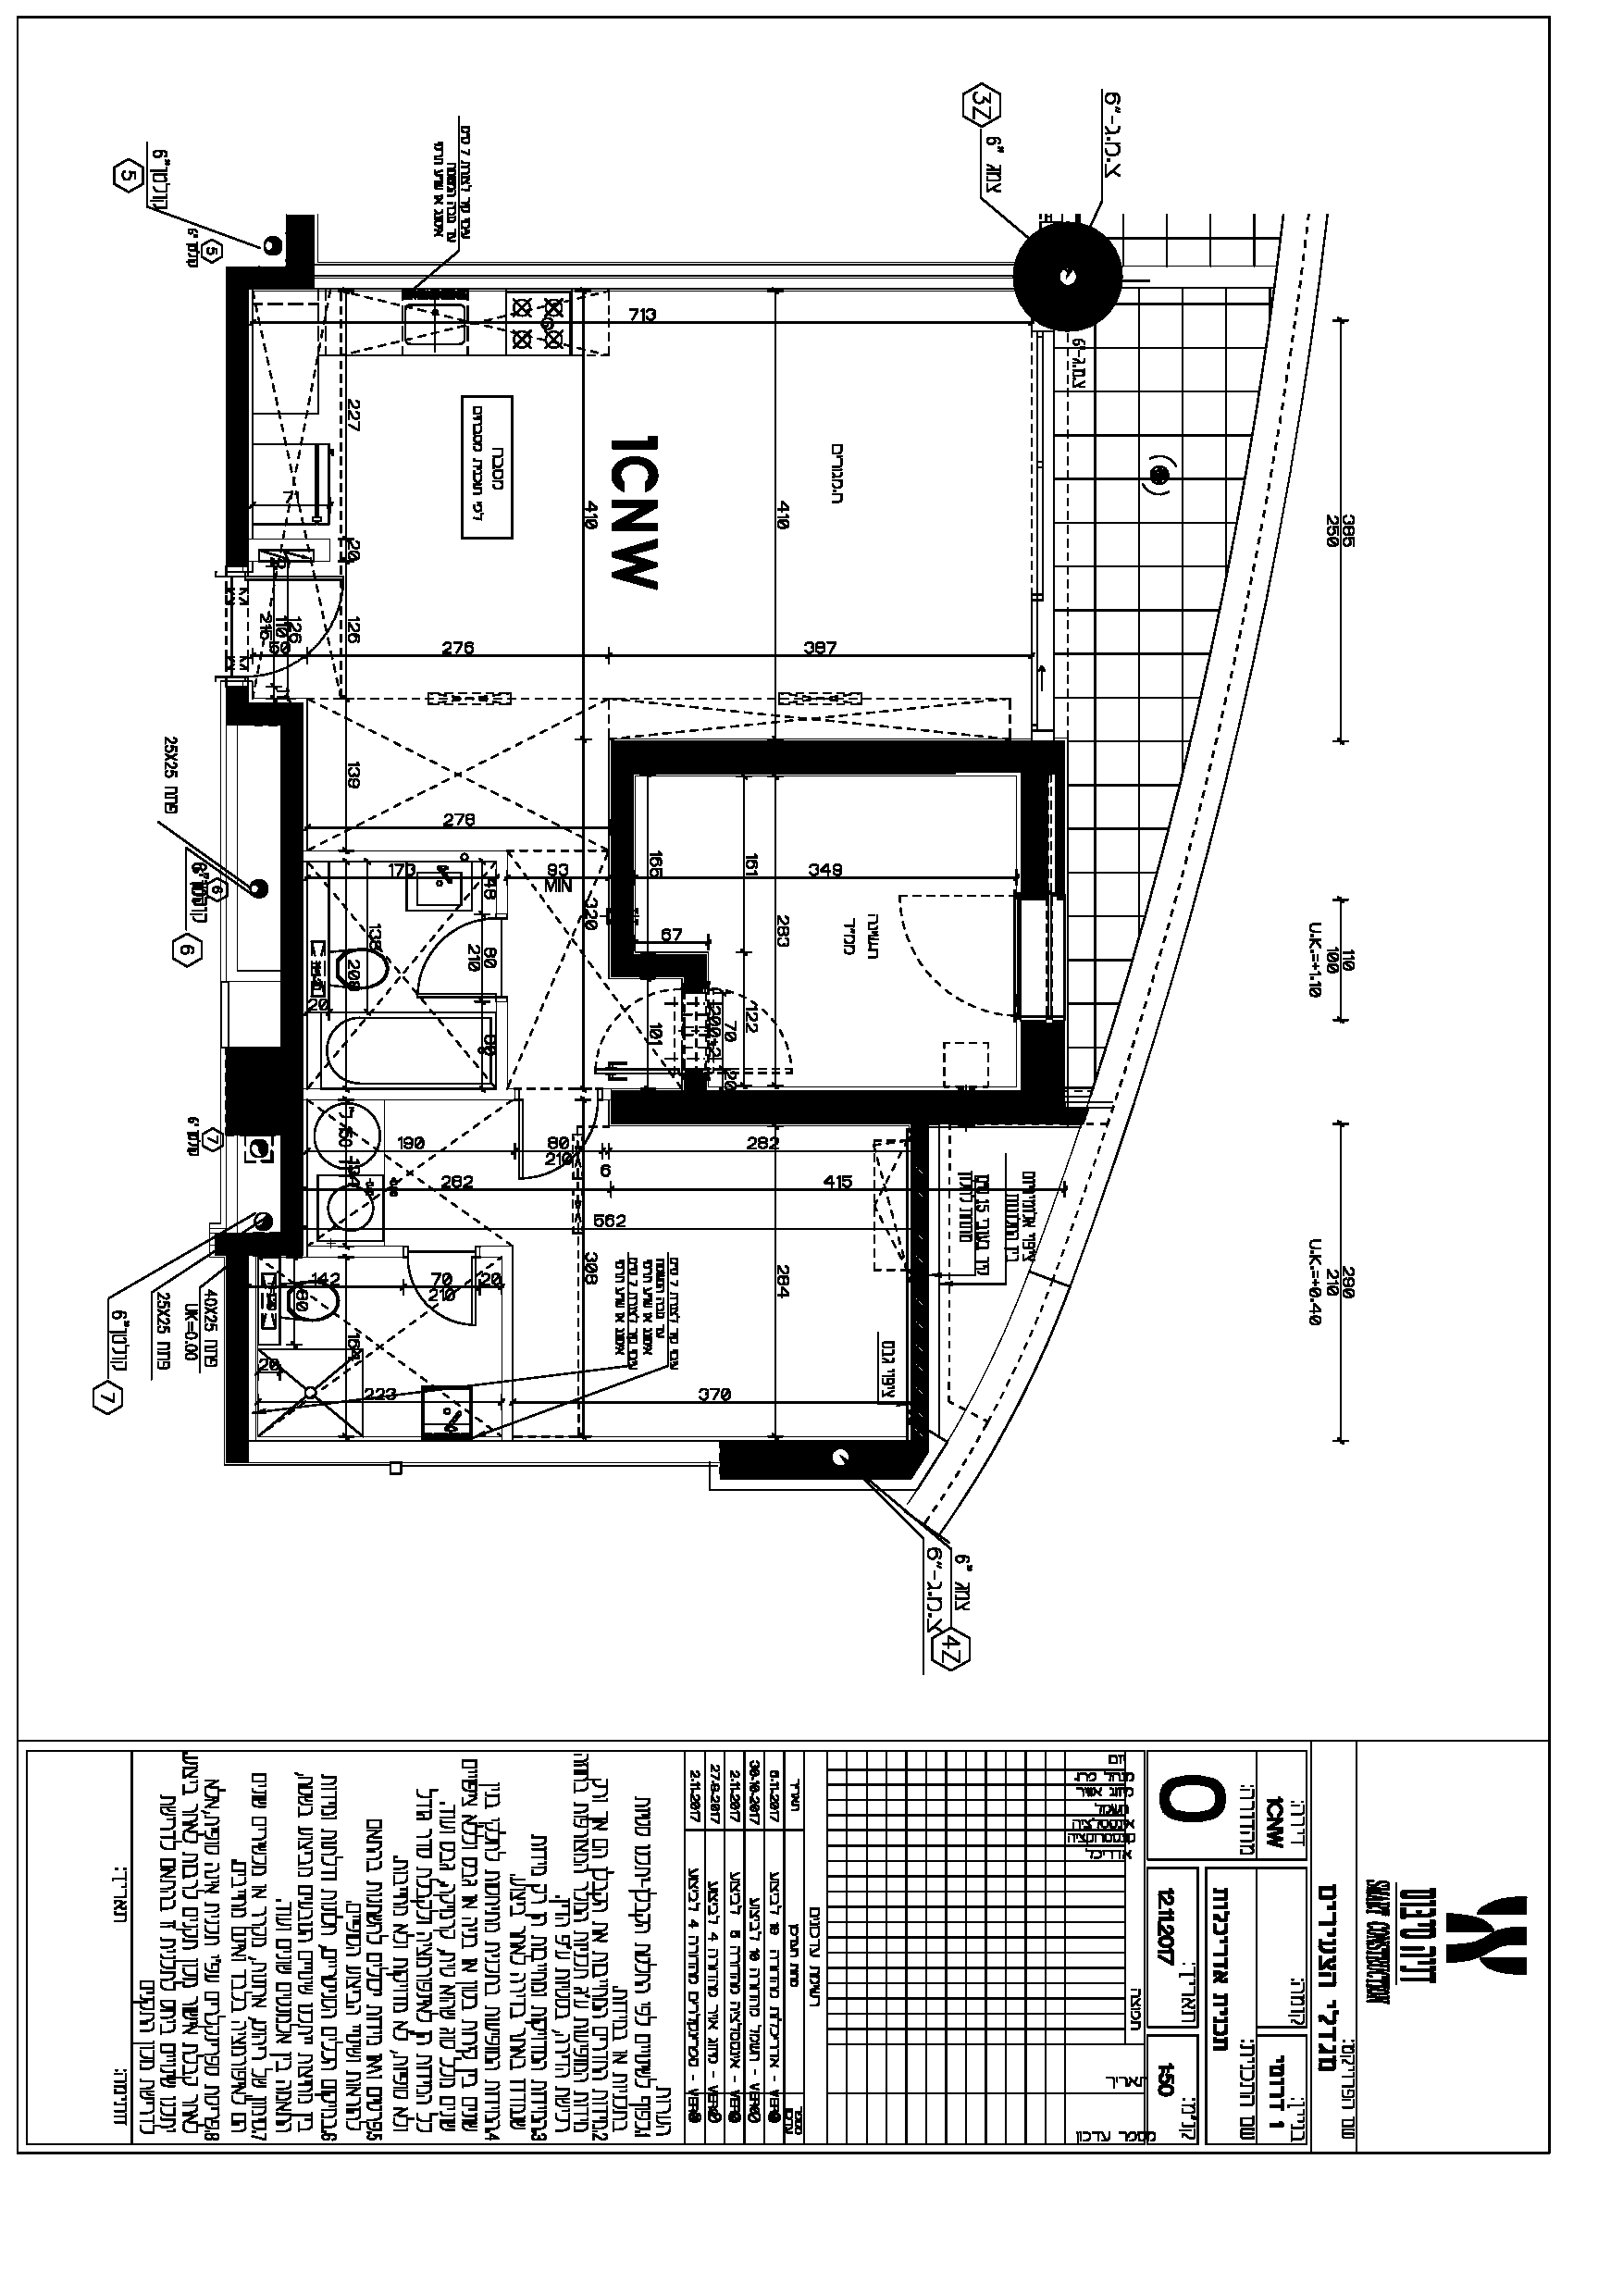door: (896, 887, 1005, 1017)
wall: (615, 740, 1068, 778), (615, 1091, 1061, 1121), (283, 704, 304, 1254), (230, 267, 251, 569), (223, 1256, 249, 1462)
window: (1033, 330, 1043, 599)
